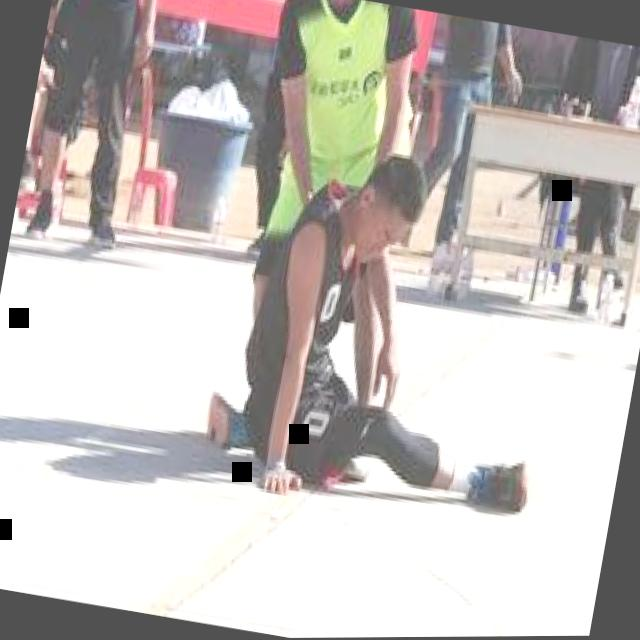Fall-Detected: (182, 97, 616, 556)
